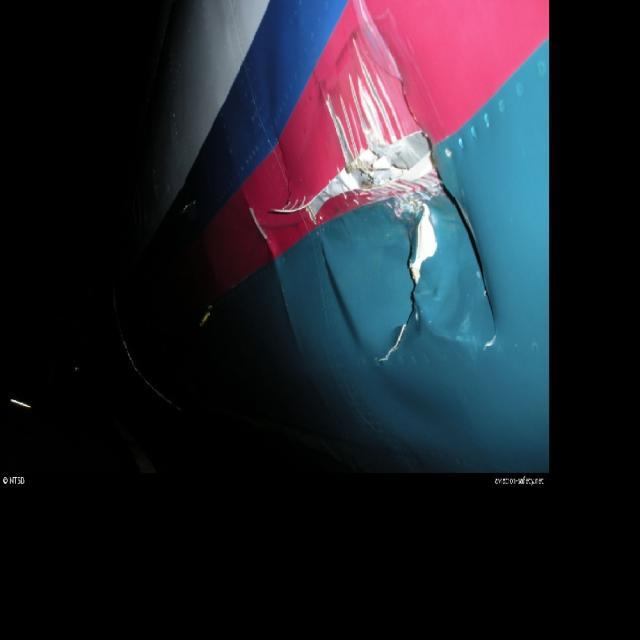crack: (287, 21, 419, 223), (376, 204, 445, 367)
dent: (323, 243, 371, 364), (427, 247, 473, 332)
